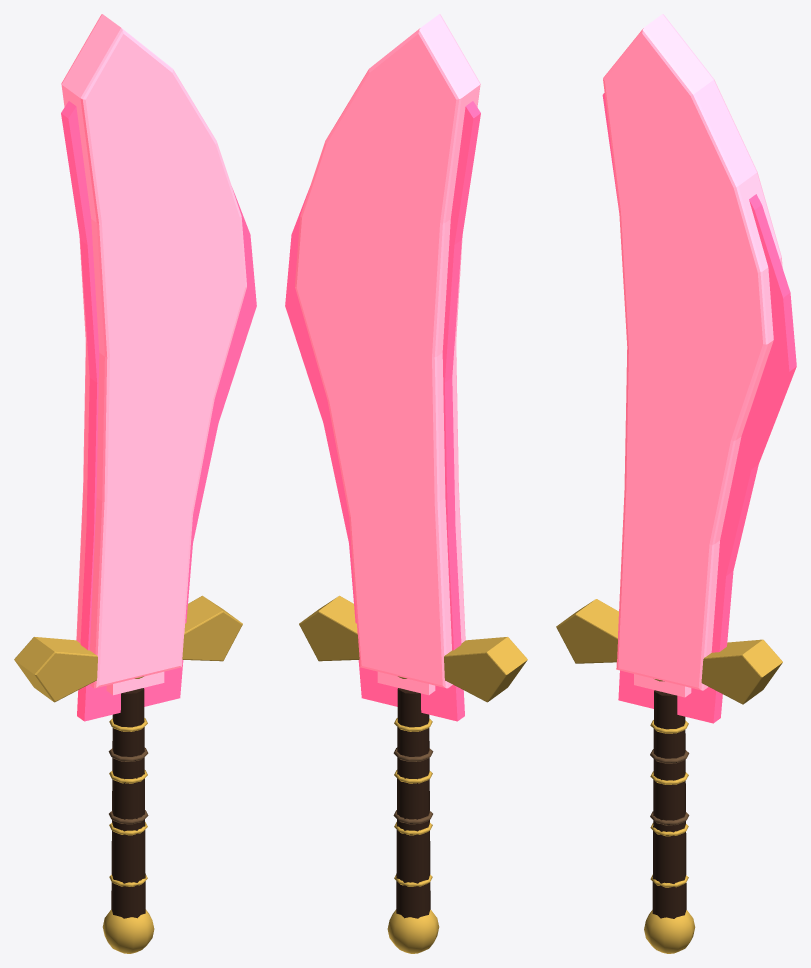
Rendered from greatsword_f5_a055b64a.glb.
The picture shows the model from 3 angles, left to right: view 1: azimuth 30°, elevation 25°; view 2: azimuth 150°, elevation 25°; view 3: azimuth 330°, elevation 25°; orthographic projection.
Parts seen in each view (by area): view 1: m3_ow80_, m0_gm130_, m4_ow80_, m2_ow80_; view 2: m3_ow80_, m0_gm130_, m4_ow80_, m2_ow80_; view 3: m3_ow80_, m0_gm130_, m4_ow80_, m2_ow80_.
Boxes of the visible parts, left/top/right/bottom form: m3_ow80_: left=61, top=14, right=246, bottom=695; m0_gm130_: left=61, top=101, right=256, bottom=721; m4_ow80_: left=14, top=595, right=242, bottom=953; m2_ow80_: left=111, top=688, right=145, bottom=918; m3_ow80_: left=295, top=14, right=480, bottom=695; m0_gm130_: left=285, top=101, right=480, bottom=721; m4_ow80_: left=299, top=595, right=527, bottom=953; m2_ow80_: left=396, top=688, right=430, bottom=918; m3_ow80_: left=603, top=14, right=782, bottom=697; m0_gm130_: left=602, top=93, right=796, bottom=723; m4_ow80_: left=556, top=599, right=782, bottom=953; m2_ow80_: left=652, top=690, right=686, bottom=918.
Bounding box in the file's own units: 0.8454 × 3.3 × 0.1583.
